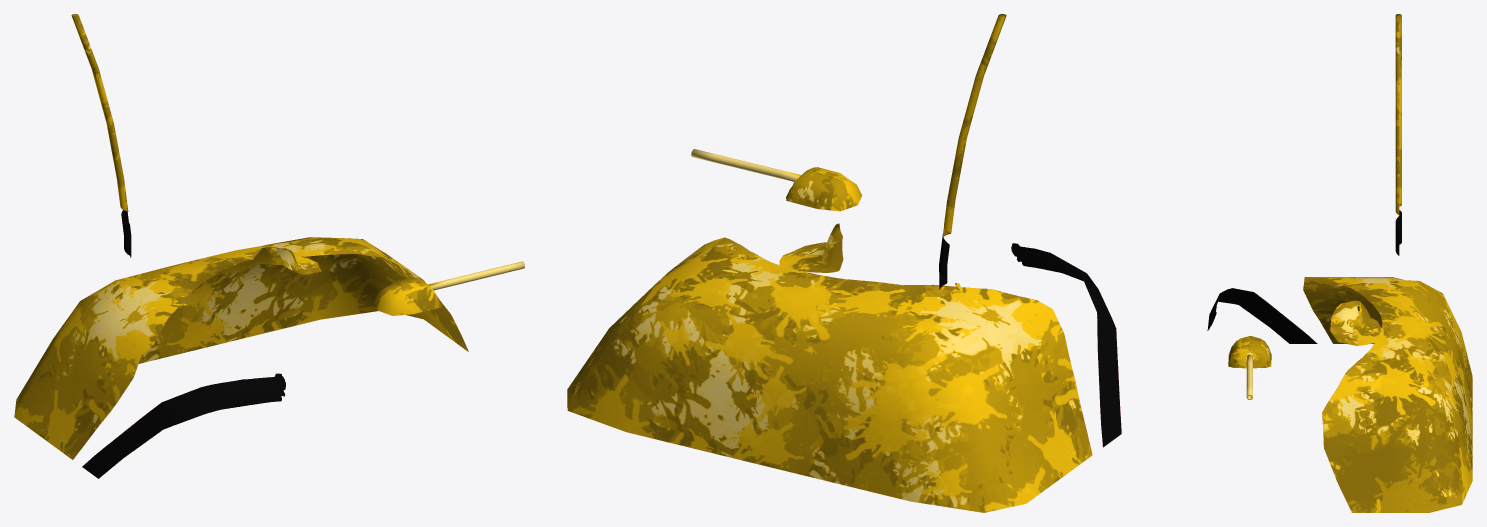
Rendered from tank_yellow_top.obj.
3 views of the same model, side by side, from view 1: azimuth 30°, elevation 25°; view 2: azimuth 150°, elevation 25°; view 3: azimuth 270°, elevation 25° (orthographic). The views are drawn at different scales.
Parts seen in each view (by area): view 1: Group1; view 2: Group1; view 3: Group1.
Boxes of the visible parts, x1,y1,x2,y2 form: Group1: (14,14,524,478); Group1: (567,14,1121,512); Group1: (1207,14,1472,512).
Bounding box in the file's own units: 13.59 × 12.95 × 9.63.
